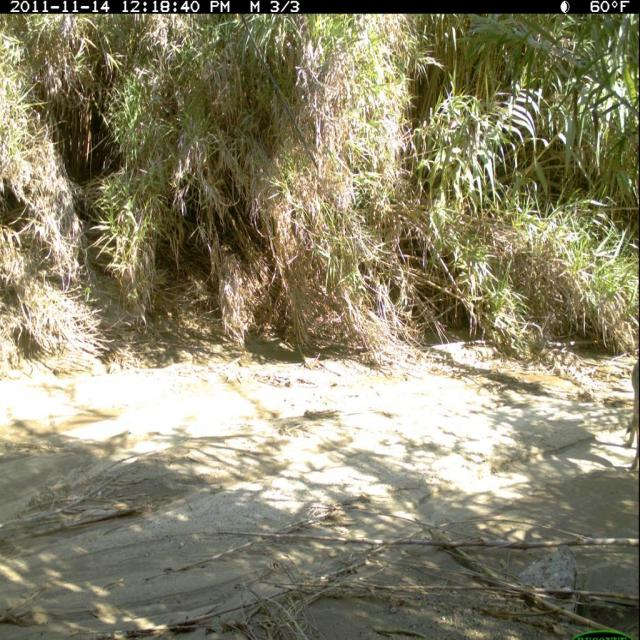coyote: (619, 355, 639, 477)
